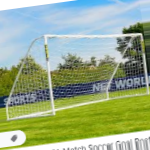goals: (5, 32, 150, 121)
